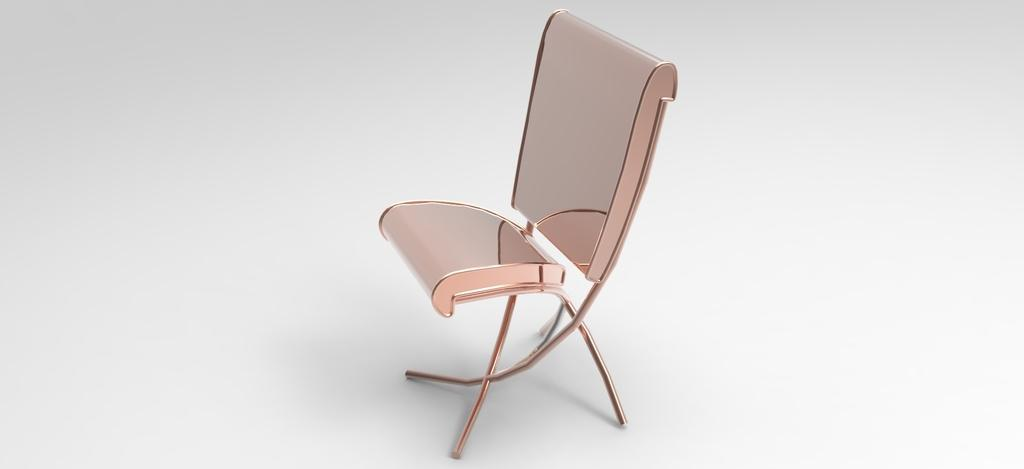Chair: (380, 21, 687, 465)
